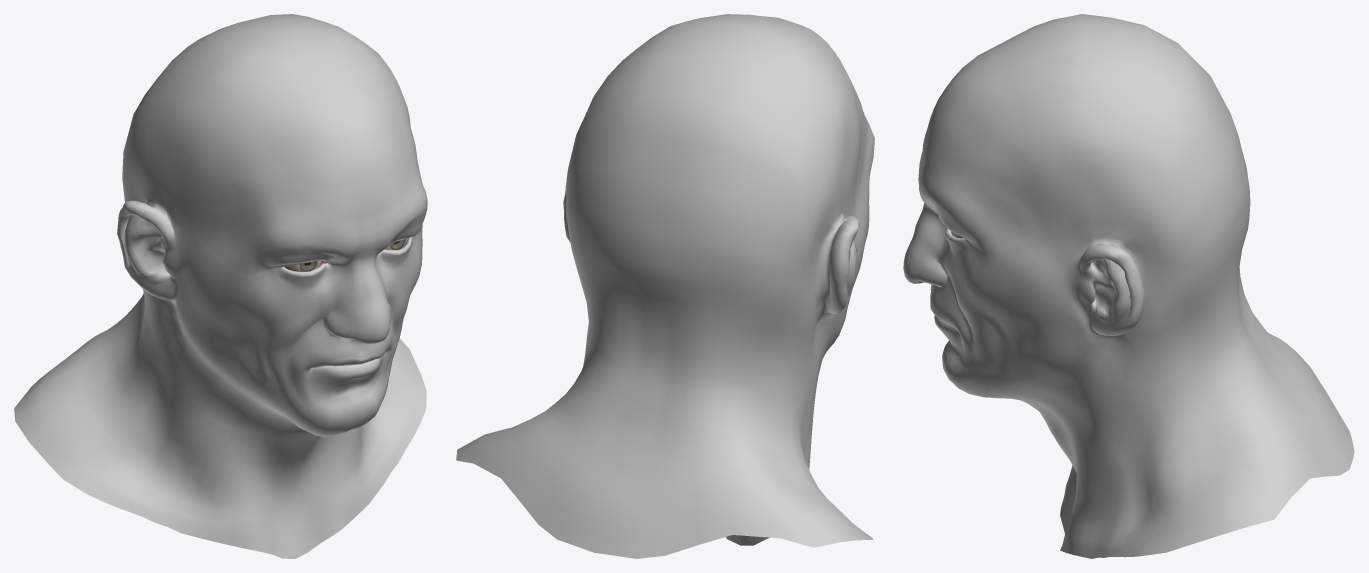
File: VictorNoEyeCover.fbx
3 views of the same model, side by side, from view 1: azimuth 30°, elevation 25°; view 2: azimuth 150°, elevation 25°; view 3: azimuth 270°, elevation 25° (orthographic).
Parts seen in each view (by area): view 1: Victor_headGEO; view 2: Victor_headGEO; view 3: Victor_headGEO.
Part boxes in pixels (bbox=[...]): Victor_headGEO: bbox=[14, 14, 427, 558]; Victor_headGEO: bbox=[456, 14, 874, 558]; Victor_headGEO: bbox=[903, 14, 1354, 558].
Bounding box in the file's own units: 3.54 × 4.64 × 3.65.
